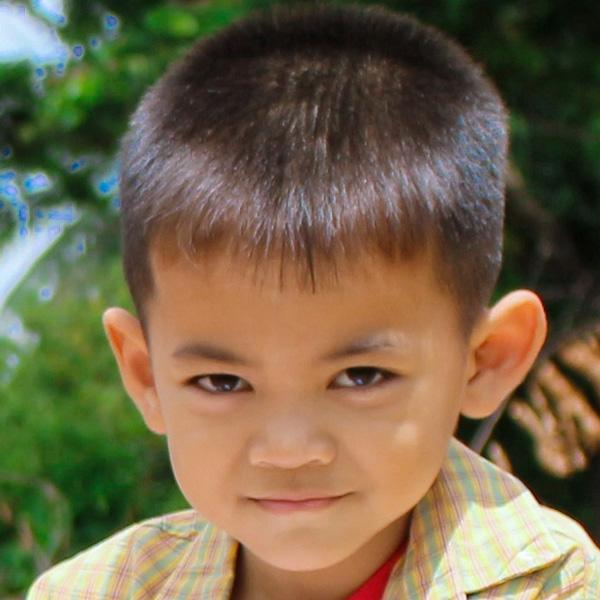Eyes: (316, 352, 409, 406), (173, 363, 264, 405)
